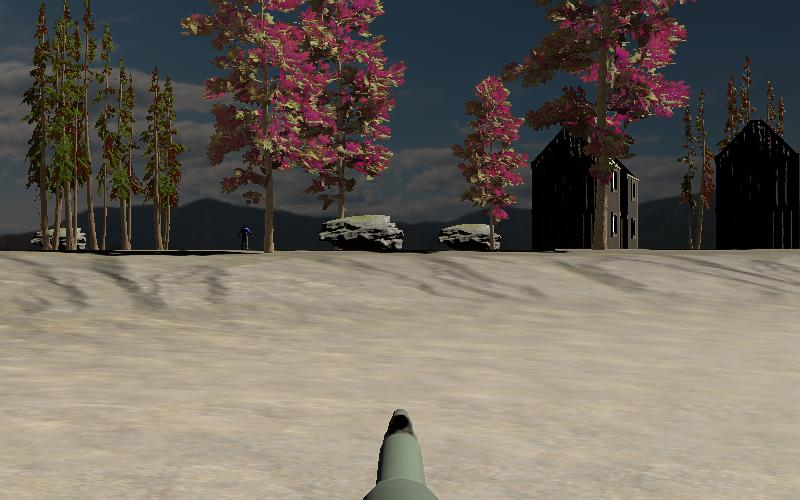House: (531, 128, 639, 251), (713, 119, 800, 251)
Human: (236, 222, 255, 253)
